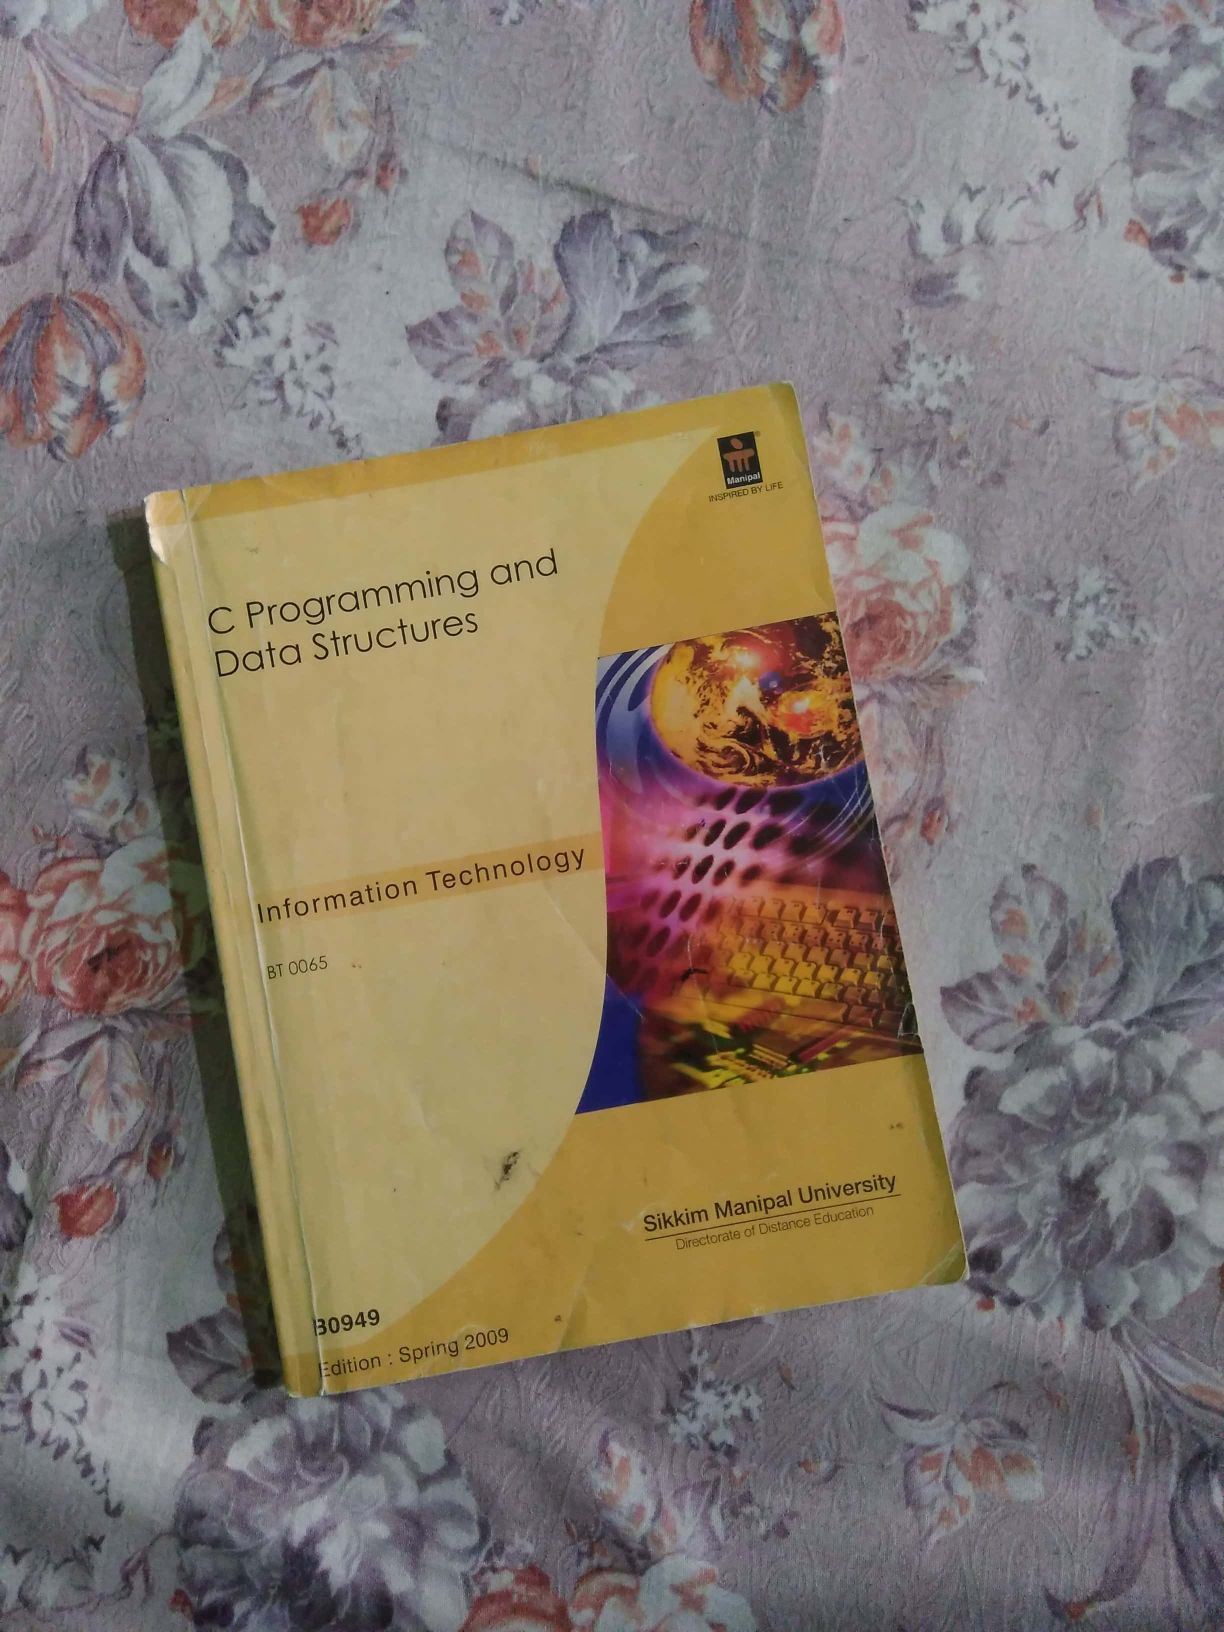clang: (139, 383, 966, 1446)
